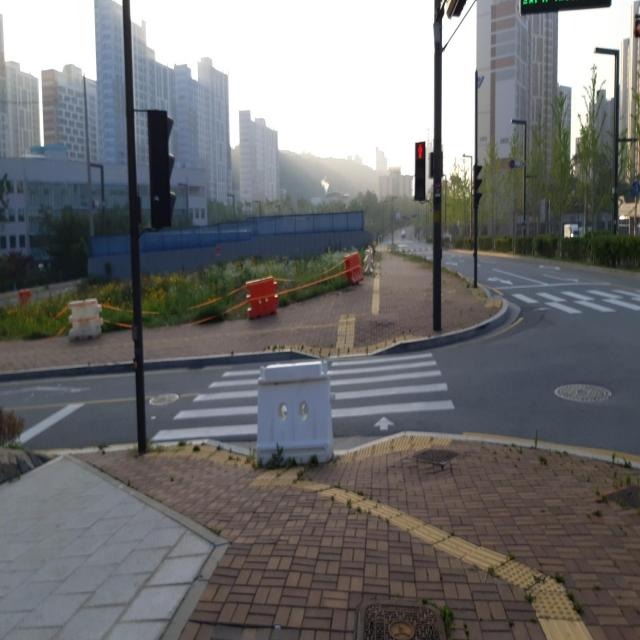빨간불: (414, 140, 427, 202)
횡단보도: (145, 324, 447, 449), (502, 284, 640, 318)
